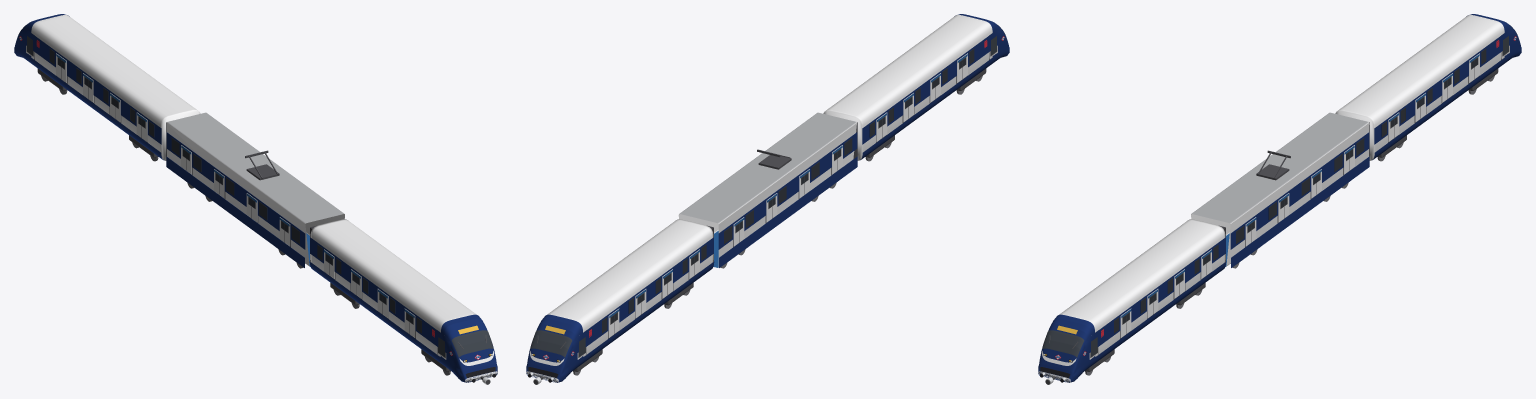
The picture shows the model from 3 angles, left to right: view 1: azimuth 30°, elevation 25°; view 2: azimuth 150°, elevation 25°; view 3: azimuth 330°, elevation 25°; orthographic projection.
Visible parts, largest first — view 1: car_00_mesh, car_01_mesh, car_02_mesh; view 2: car_02_mesh, car_01_mesh, car_00_mesh; view 3: car_00_mesh, car_01_mesh, car_02_mesh.
Part boxes in pixels (box(x1,y1,x2,y2)): car_00_mesh: box(309, 219, 497, 384); car_01_mesh: box(166, 112, 344, 267); car_02_mesh: box(14, 14, 200, 160); car_02_mesh: box(526, 219, 714, 384); car_01_mesh: box(678, 112, 857, 267); car_00_mesh: box(823, 14, 1009, 160); car_00_mesh: box(1038, 219, 1226, 384); car_01_mesh: box(1191, 112, 1369, 267); car_02_mesh: box(1335, 14, 1521, 160).
Size of the model in its own units: 2.89 by 4.88 by 56.6.
